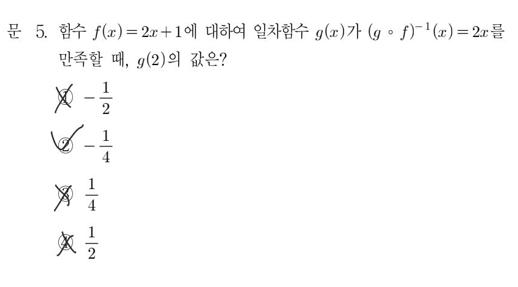1: (48, 124, 84, 156)
paper: (55, 86, 75, 106), (54, 135, 74, 155), (55, 184, 75, 204), (55, 232, 75, 252)
